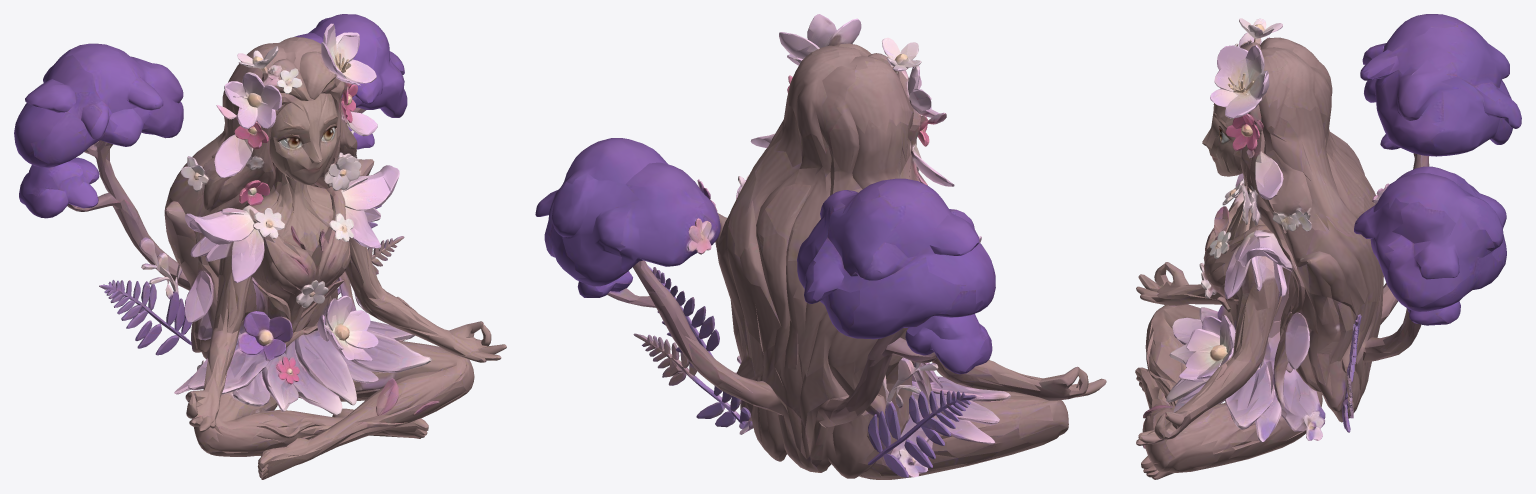
File: teacher-open.glb
3 views of the same model, side by side, from view 1: azimuth 30°, elevation 25°; view 2: azimuth 150°, elevation 25°; view 3: azimuth 270°, elevation 25° (orthographic). The views are drawn at different scales.
Visible parts, largest first — view 1: output_unwrapped; view 2: output_unwrapped; view 3: output_unwrapped.
Boxes of the visible parts, x1,y1,x2,y2 form: output_unwrapped: (14, 14, 506, 479); output_unwrapped: (535, 14, 1106, 479); output_unwrapped: (1135, 14, 1521, 479).
Bounding box in the file's own units: 1.9 × 1.85 × 1.56.
1 material, 1 textured.
